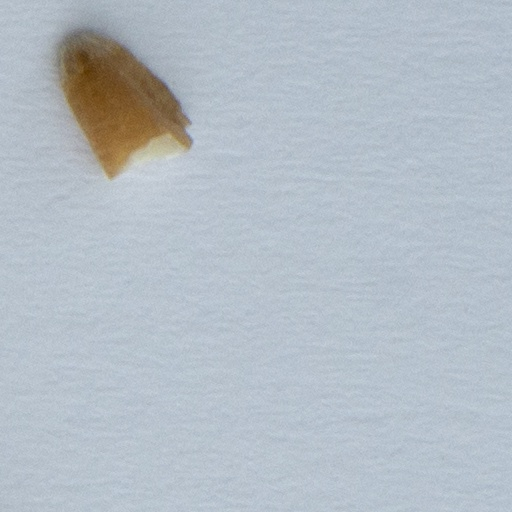Wheat-grain-damaged-poly: (54, 32, 195, 181)
